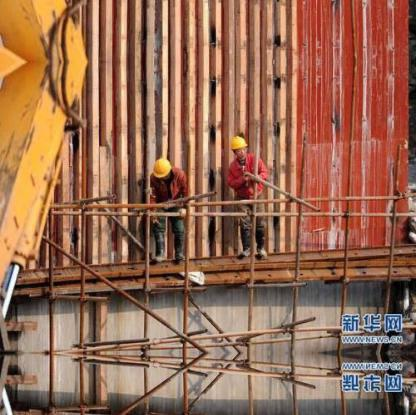helmet: (150, 154, 174, 178), (224, 132, 249, 152)
